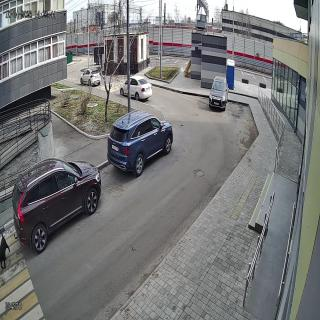dog: (0, 232, 10, 270)
